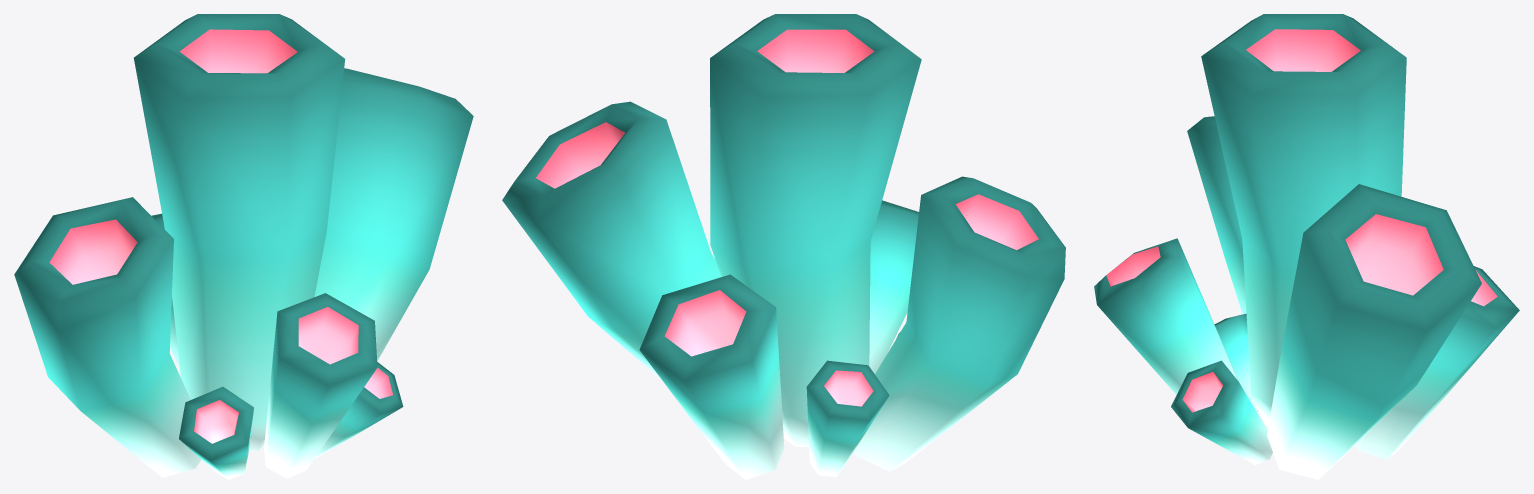
Rendered from teal_trumpet.glb.
3 renders of one model, left to right at view 1: azimuth 30°, elevation 25°; view 2: azimuth 150°, elevation 25°; view 3: azimuth 270°, elevation 25°, orthographic. The views are drawn at different scales.
Visible parts, largest first — view 1: Teal Trumpet; view 2: Teal Trumpet; view 3: Teal Trumpet.
Boxes of the visible parts, x1=… form: Teal Trumpet: x1=14, y1=14, x2=473, y2=479; Teal Trumpet: x1=502, y1=14, x2=1065, y2=479; Teal Trumpet: x1=1094, y1=14, x2=1519, y2=479.
Bounding box in the file's own units: 1.52 × 1.26 × 1.22.
Materials: 1 (1 with a texture image).
